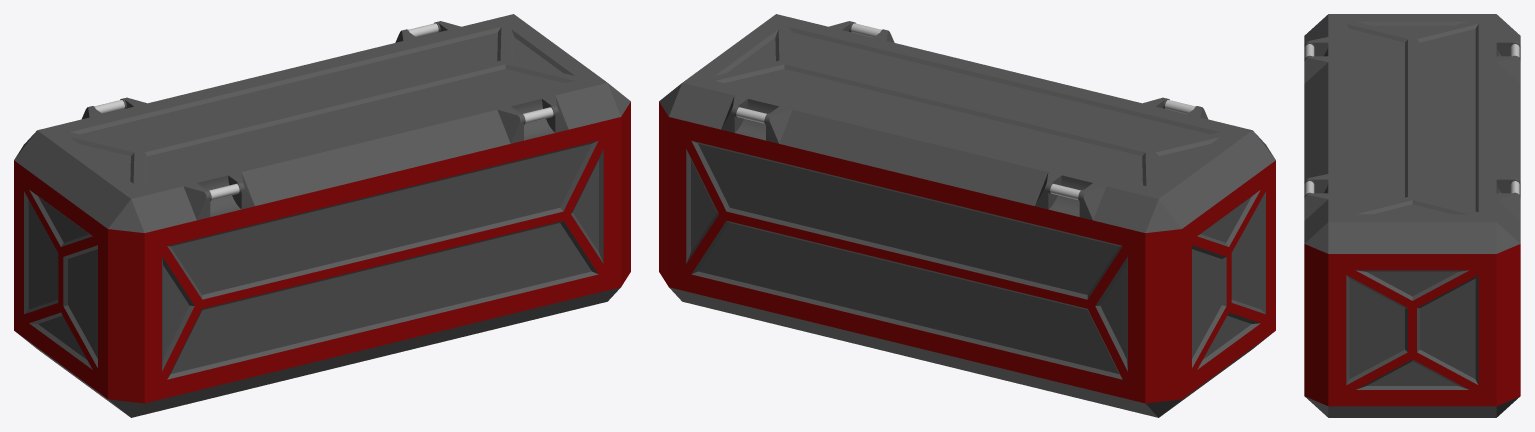
Rendered from crate 2.fbx.
3 renders of one model, left to right at view 1: azimuth 30°, elevation 25°; view 2: azimuth 150°, elevation 25°; view 3: azimuth 270°, elevation 25°, orthographic. The views are drawn at different scales.
Visible parts, largest first — view 1: Component_4_1, Component_1_4, Component_1_2; view 2: Component_4_1, Component_1_3, Component_1_1; view 3: Component_4_1, Component_1_1, Component_1_2, Component_1_3, Component_1_4.
Part boxes in pixels (x1=…): Component_4_1: x1=14, y1=14, x2=630, y2=417; Component_1_4: x1=497, y1=95, x2=568, y2=143; Component_1_2: x1=183, y1=172, x2=254, y2=220; Component_4_1: x1=659, y1=14, x2=1275, y2=417; Component_1_3: x1=721, y1=95, x2=792, y2=143; Component_1_1: x1=1035, y1=172, x2=1106, y2=220; Component_4_1: x1=1304, y1=14, x2=1520, y2=417; Component_1_1: x1=1496, y1=37, x2=1520, y2=83; Component_1_2: x1=1304, y1=37, x2=1328, y2=83; Component_1_3: x1=1496, y1=174, x2=1520, y2=220; Component_1_4: x1=1304, y1=174, x2=1328, y2=220.
Bounding box in the file's own units: 90 × 36 × 36.
